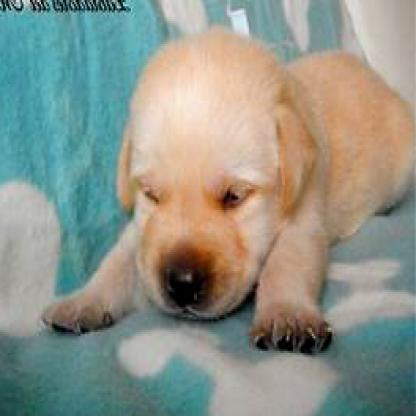dog: (41, 33, 415, 354)
